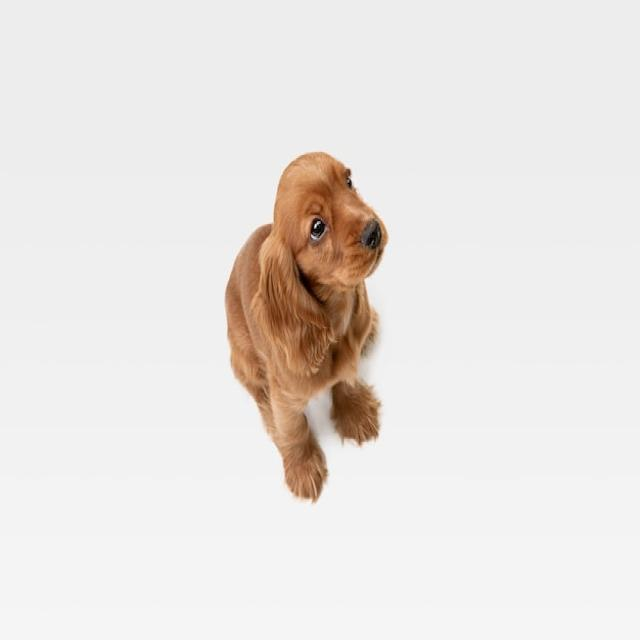Dog: (225, 151, 388, 500)
